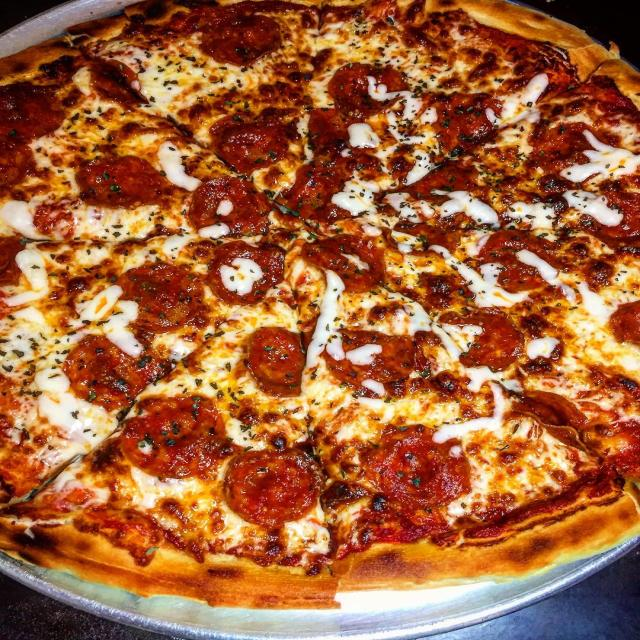pepperoni: (365, 418, 475, 510), (316, 317, 434, 402), (121, 393, 229, 480), (220, 445, 326, 528), (57, 331, 163, 408), (114, 260, 204, 338), (290, 229, 394, 296), (504, 382, 600, 450), (72, 153, 182, 212), (279, 160, 378, 224), (320, 58, 409, 127), (436, 305, 526, 373), (200, 239, 286, 309), (184, 176, 273, 243), (200, 111, 296, 171), (200, 6, 288, 69), (377, 194, 459, 261), (478, 230, 564, 292), (243, 321, 306, 404), (0, 78, 64, 155), (538, 120, 620, 172), (429, 96, 499, 150), (581, 187, 640, 243), (86, 54, 147, 108), (306, 102, 355, 164), (0, 229, 33, 293), (608, 300, 640, 346)
pizza: (0, 0, 639, 608)
